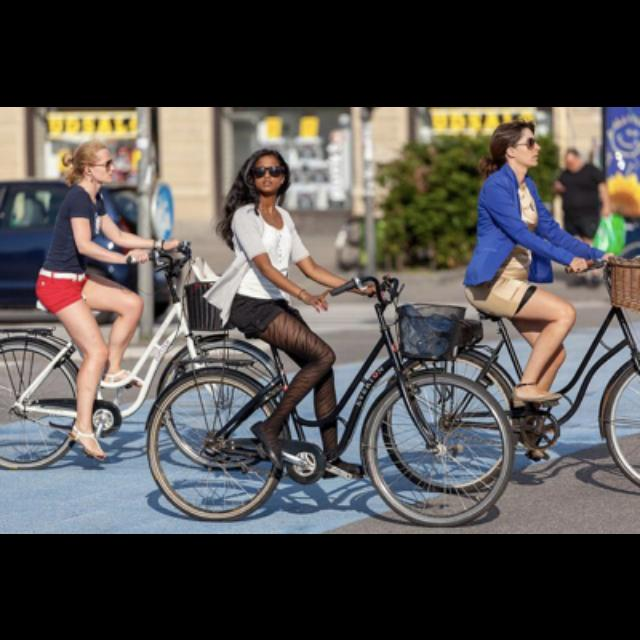Without Helmet: (491, 112, 549, 174), (238, 138, 296, 198), (60, 130, 120, 188)
